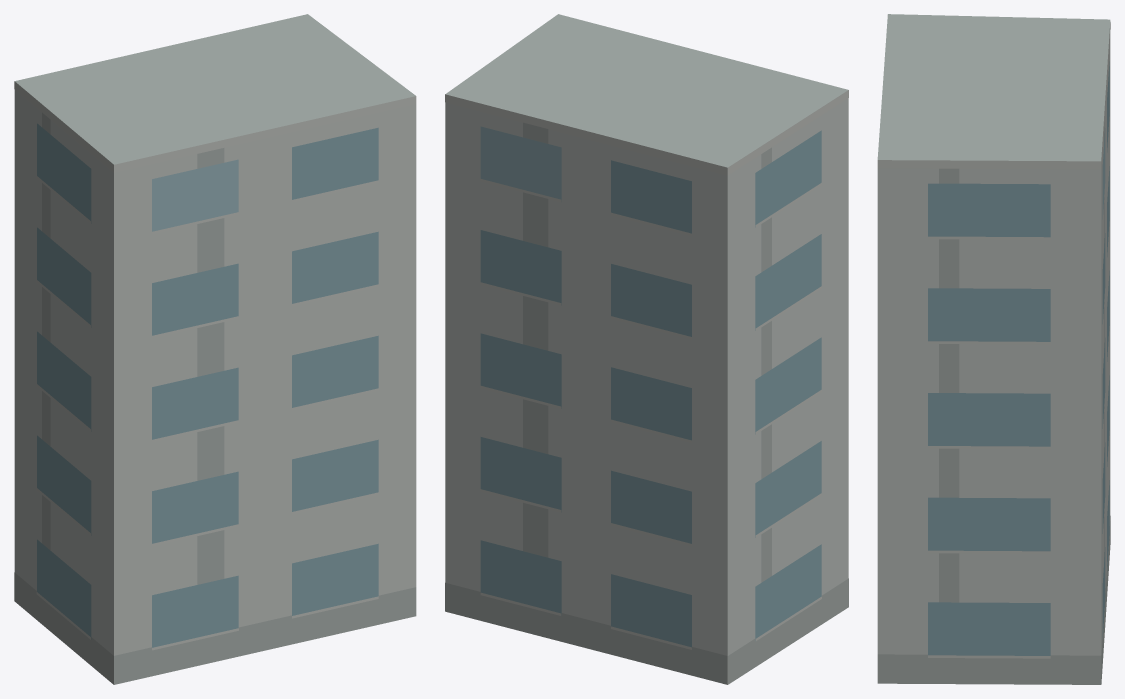
File: survey-upis-32728766.glb
3 views of the same model, side by side, from view 1: azimuth 30°, elevation 25°; view 2: azimuth 150°, elevation 25°; view 3: azimuth 270°, elevation 25° (orthographic).
Visible parts, largest first — view 1: survey-upis-32728766.tmp; view 2: survey-upis-32728766.tmp; view 3: survey-upis-32728766.tmp.
Part boxes in pixels (box(x1,y1,x2,y2)): survey-upis-32728766.tmp: box(14, 14, 416, 684); survey-upis-32728766.tmp: box(445, 14, 848, 684); survey-upis-32728766.tmp: box(877, 14, 1110, 684).
Size of the model in its own units: 9.48 by 15.7 by 6.34.
